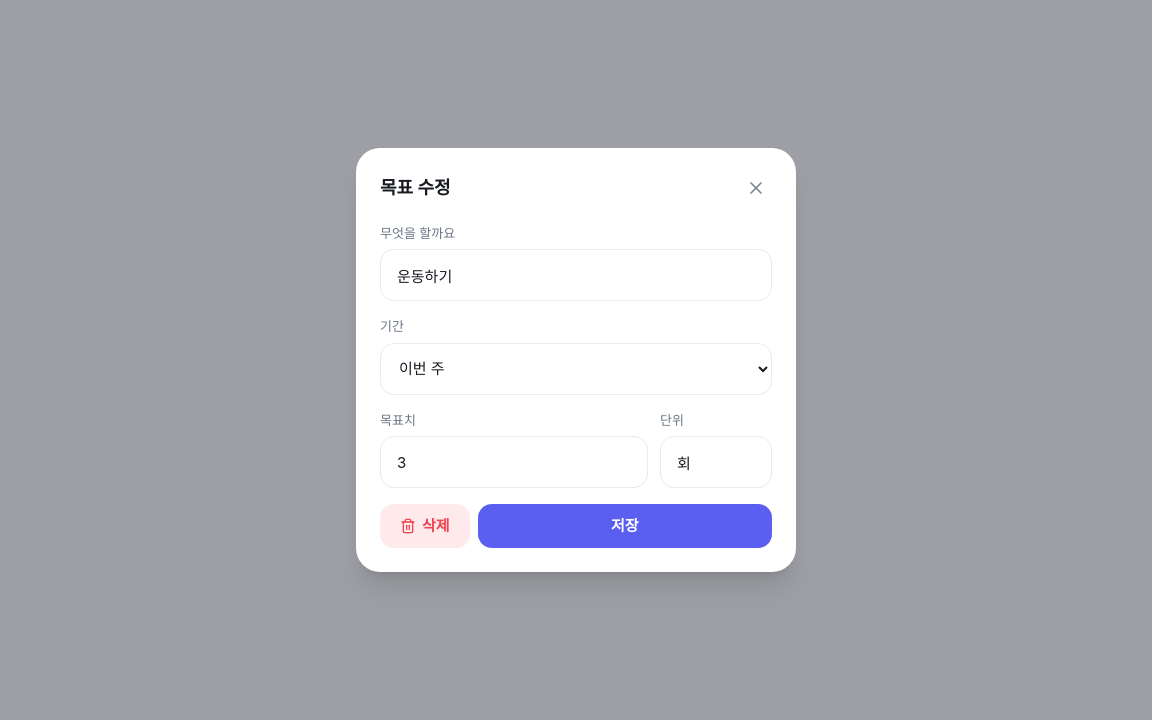
Test: 저장 › 실패하면 말한다
Click the button "저장": x=625, y=526 left=478, top=504, right=772, bottom=548
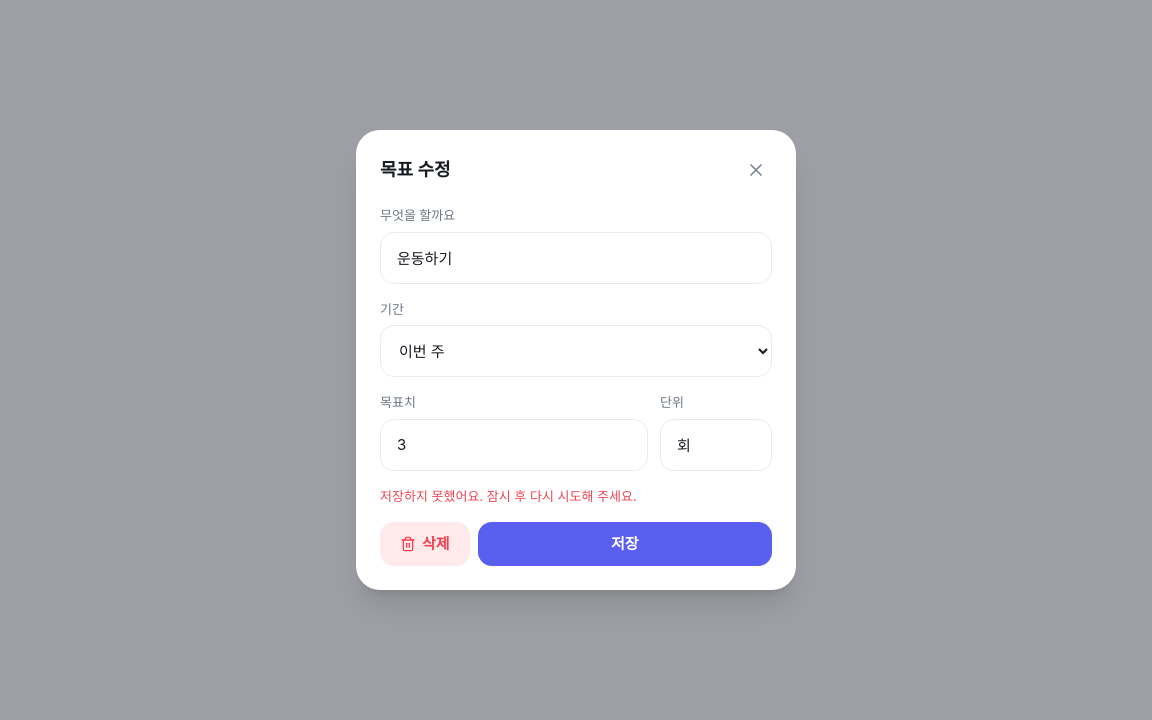
Expected: the message shows "저장하지 못했어요", left=380, top=488, right=637, bottom=504
